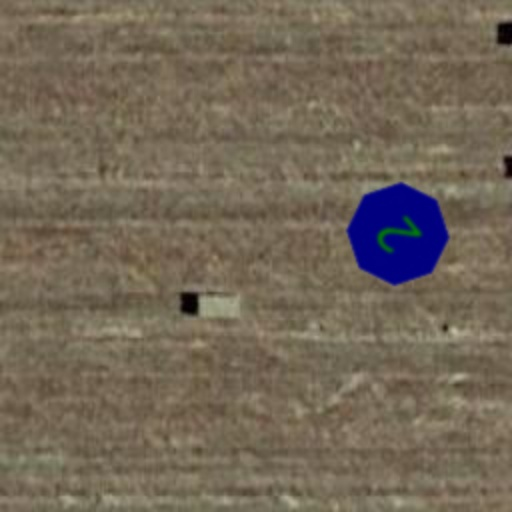octagon: (324, 160, 472, 308)
